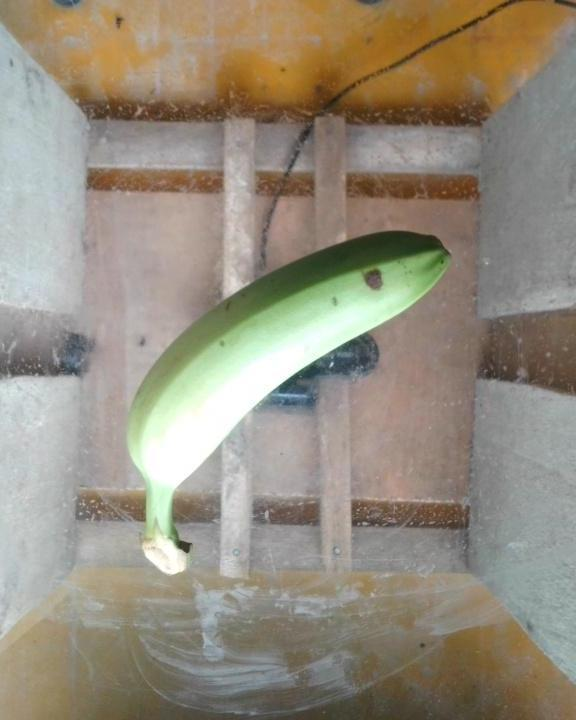CLASS B: (127, 223, 468, 578)
Class A: (357, 264, 391, 301)
